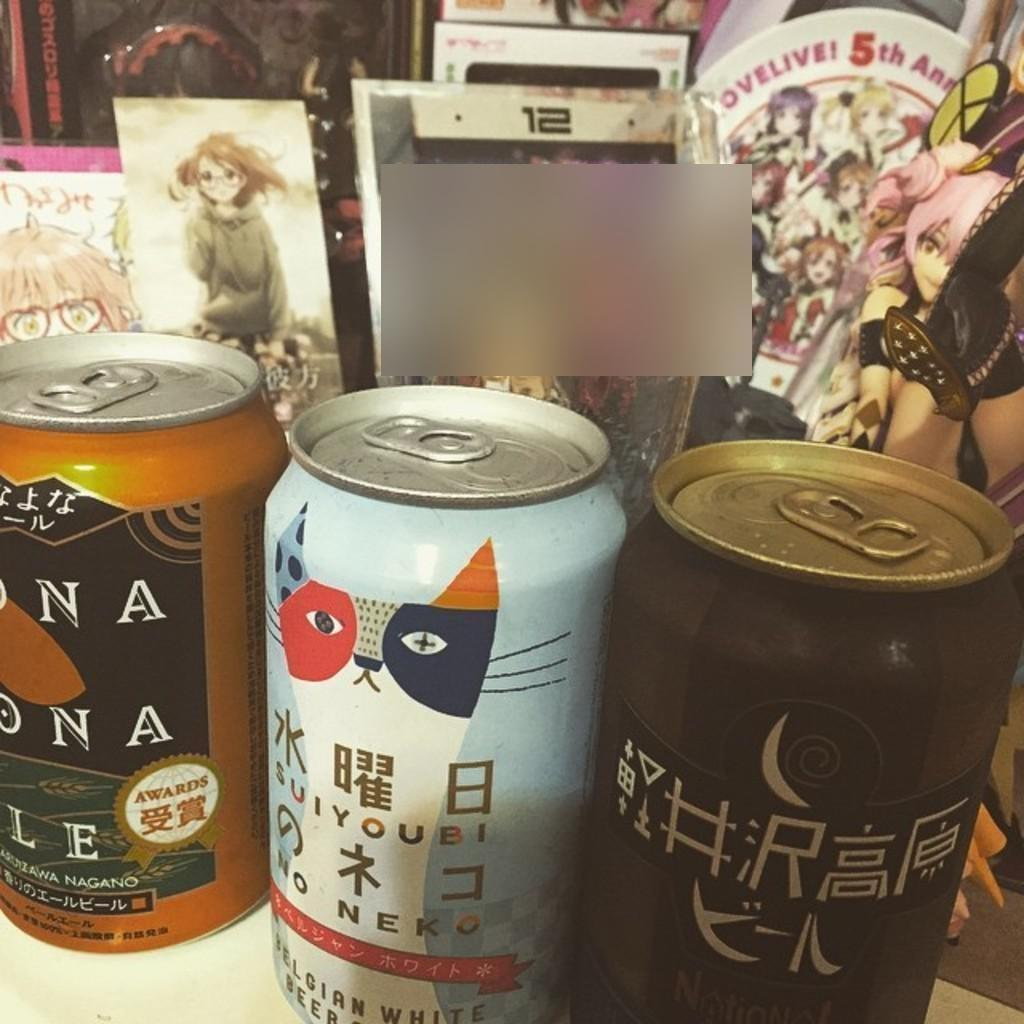tin can: (594, 440, 1023, 1022), (261, 384, 631, 1022), (0, 330, 290, 952)
